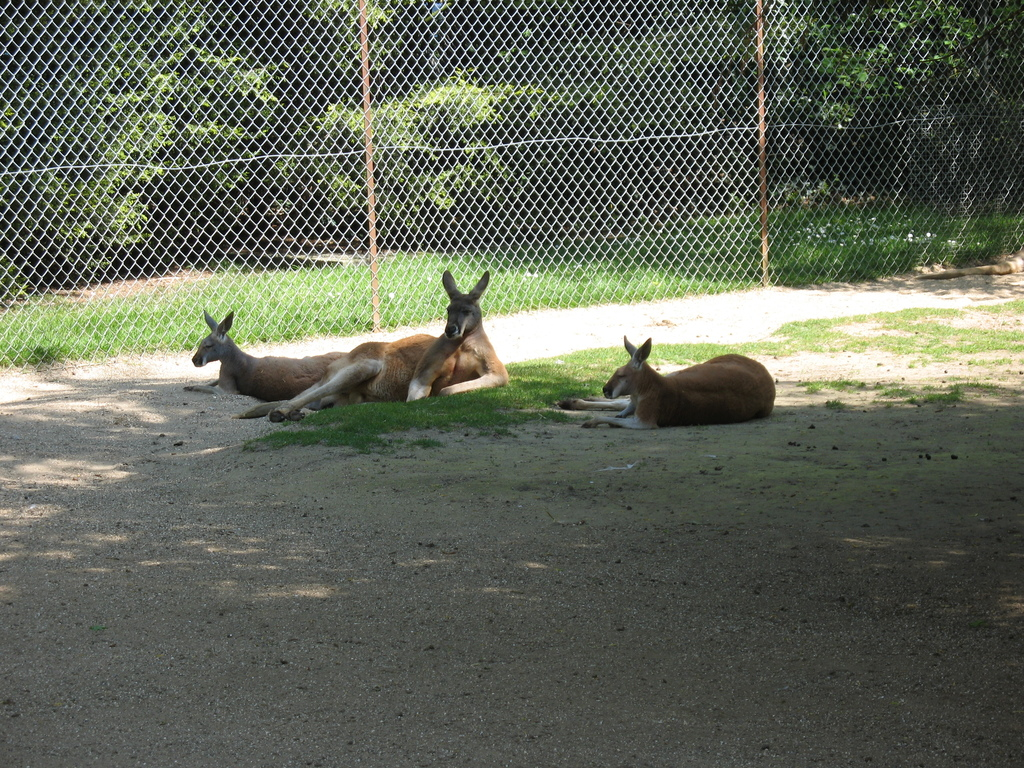kangaroo: (551, 336, 773, 435)
